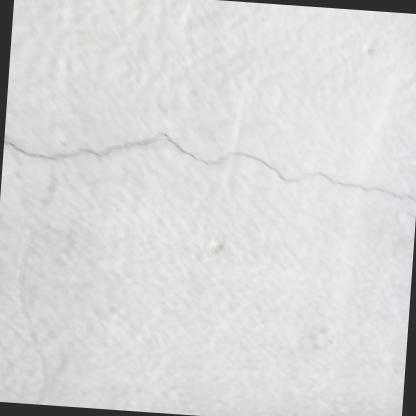crack: (4, 125, 416, 210)
